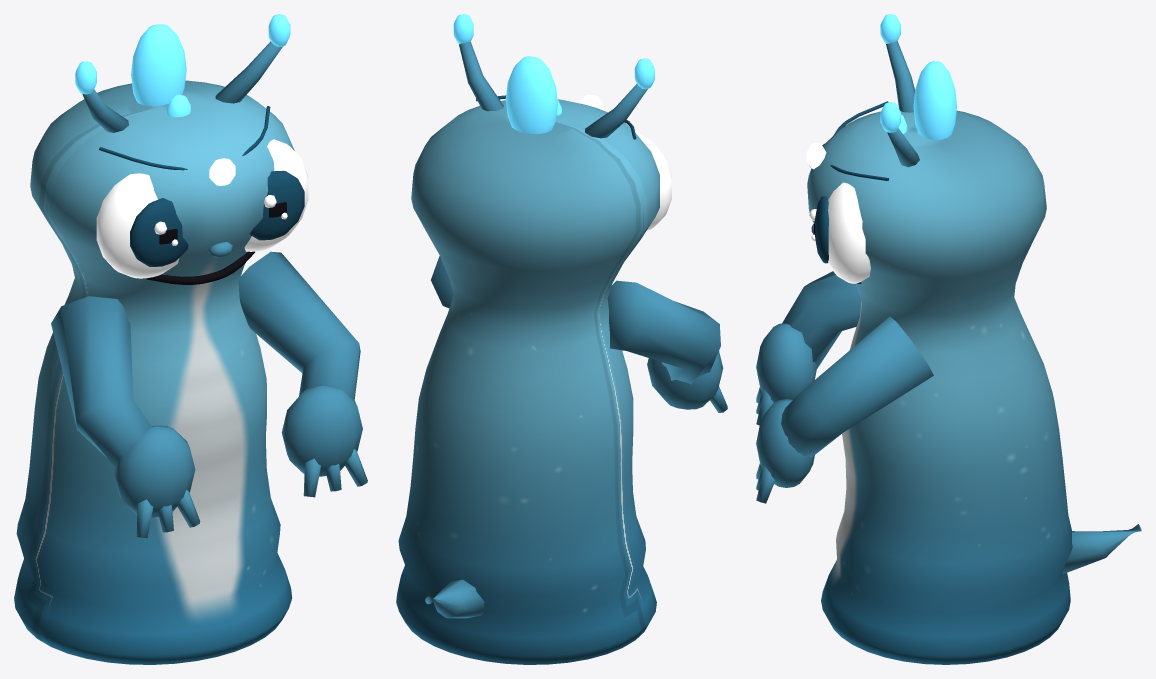
File: gotita_pixar.glb
3 views of the same model, side by side, from view 1: azimuth 30°, elevation 25°; view 2: azimuth 150°, elevation 25°; view 3: azimuth 270°, elevation 25° (orthographic). The views are drawn at different scales.
Visible parts, largest first — view 1: gotita_cuerpo; view 2: gotita_cuerpo; view 3: gotita_cuerpo.
Part boxes in pixels (<box>): gotita_cuerpo: <box>14,14,367,664</box>; gotita_cuerpo: <box>396,14,727,664</box>; gotita_cuerpo: <box>756,14,1141,664</box>.
Size of the model in its own units: 0.2899 by 0.58 by 0.3658.
6 materials, 1 textured.
